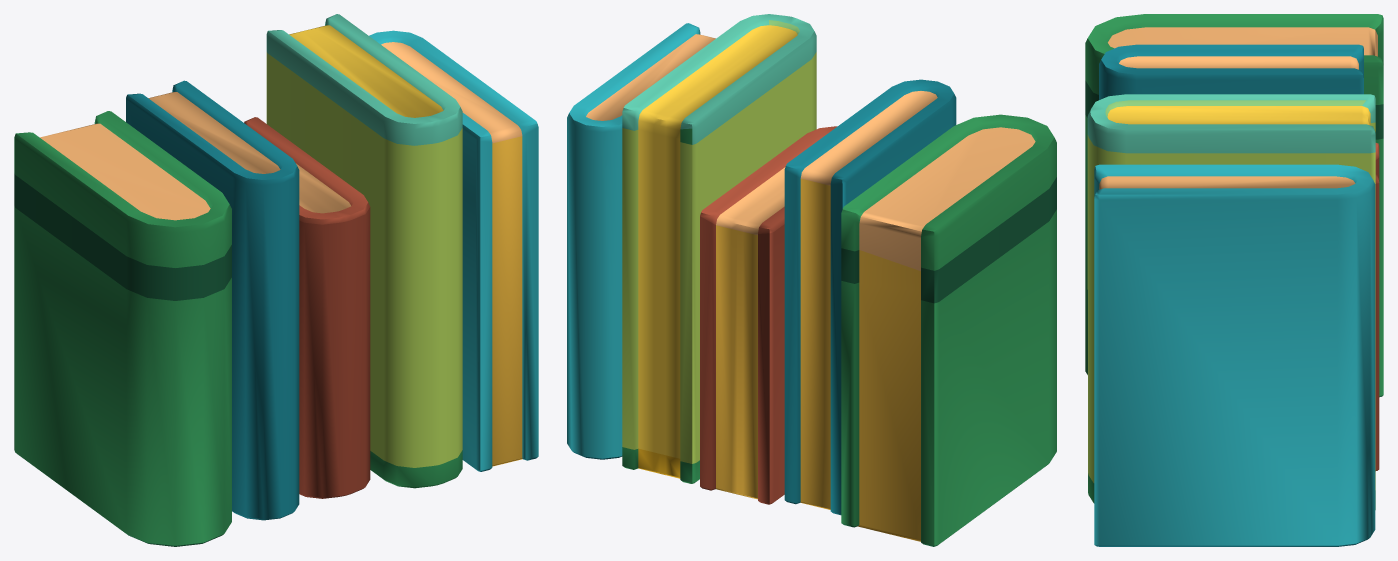
Rendered from livros_em_pe_2_xadrez_pacote.glb.
3 renders of one model, left to right at view 1: azimuth 30°, elevation 25°; view 2: azimuth 150°, elevation 25°; view 3: azimuth 270°, elevation 25°, orthographic. The views are drawn at different scales.
Parts seen in each view (by area): view 1: livros_em_pe_2_xadrez_pacote; view 2: livros_em_pe_2_xadrez_pacote; view 3: livros_em_pe_2_xadrez_pacote.
Part boxes in pixels (bbox=[...]): livros_em_pe_2_xadrez_pacote: bbox=[14, 14, 538, 546]; livros_em_pe_2_xadrez_pacote: bbox=[567, 14, 1056, 546]; livros_em_pe_2_xadrez_pacote: bbox=[1085, 14, 1383, 546].
Bounding box in the file's own units: 0.3547 × 0.3173 × 0.2242.
1 material, 1 textured.
